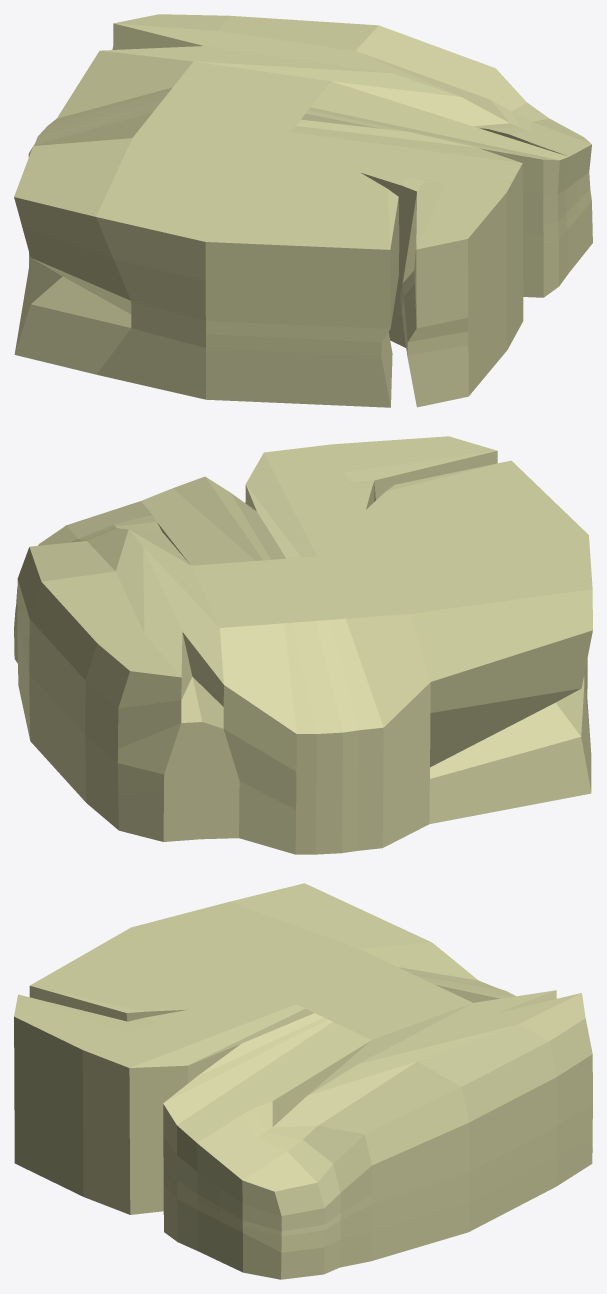
3 views of the same model, one above another, from view 1: azimuth 30°, elevation 25°; view 2: azimuth 150°, elevation 25°; view 3: azimuth 270°, elevation 25° (orthographic). The views are drawn at different scales.
Parts seen in each view (by area): view 1: Cube.007; view 2: Cube.007; view 3: Cube.007.
Part boxes in pixels (x1,y1,x2,y2): Cube.007: (14, 14, 592, 407); Cube.007: (14, 436, 592, 854); Cube.007: (14, 883, 592, 1279).
Size of the model in its own units: 187 by 54.84 by 180.
